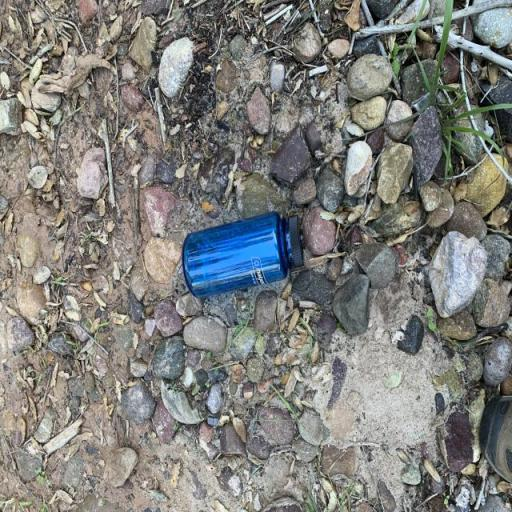bottle: (182, 210, 311, 298)
